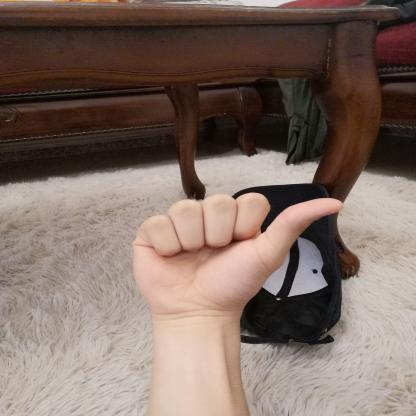DAD: (116, 183, 359, 327)
